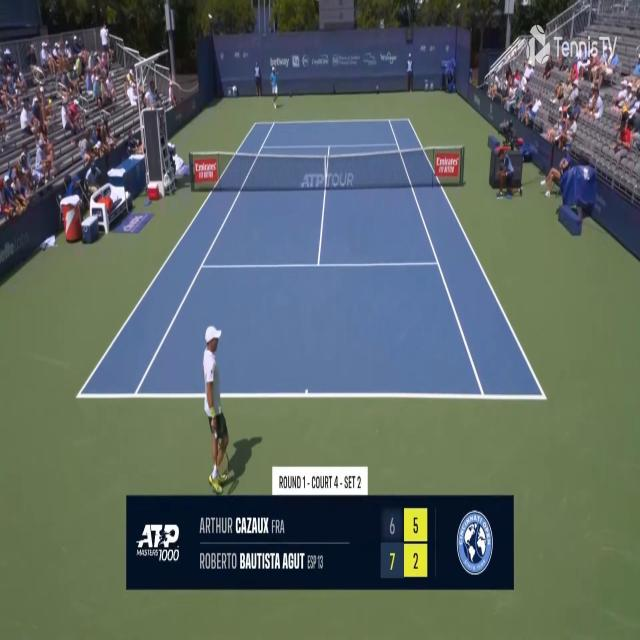tennis-player: (202, 321, 236, 494), (270, 64, 280, 109)
